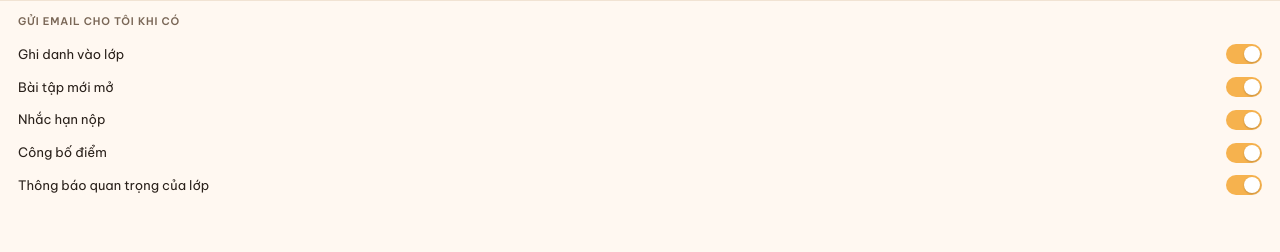
Test: preference update only appears after API success
The width and height of the screenshot is (1280, 252).
Click the switch named "Ghi danh vào lớp": click(1244, 54) [1226,44,1262,64]
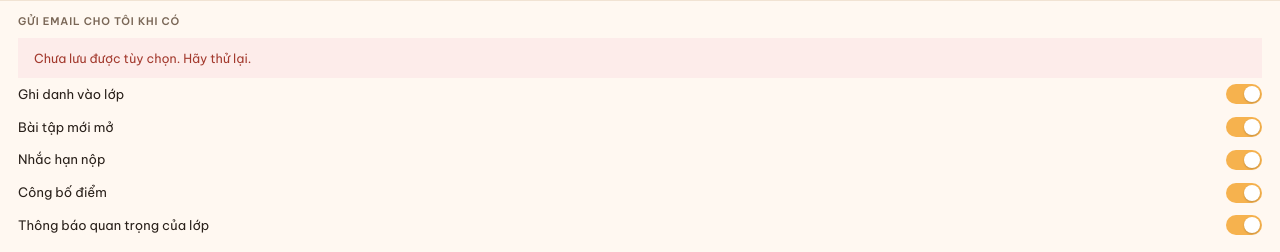
expect the message shows "Chưa lưu được": met, box [34,50,251,66]
